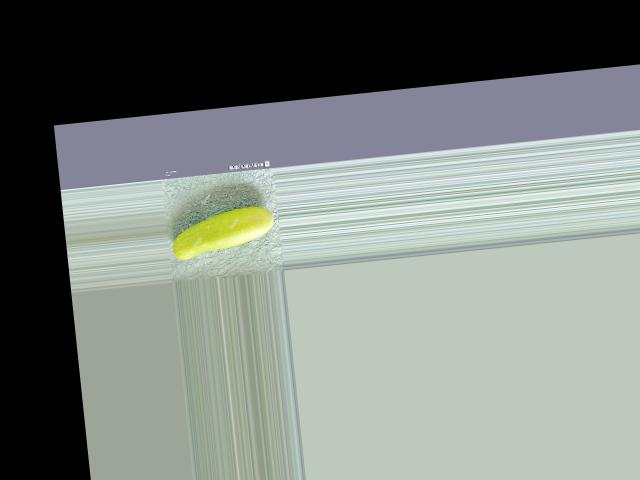cucumber: (168, 204, 276, 260)
